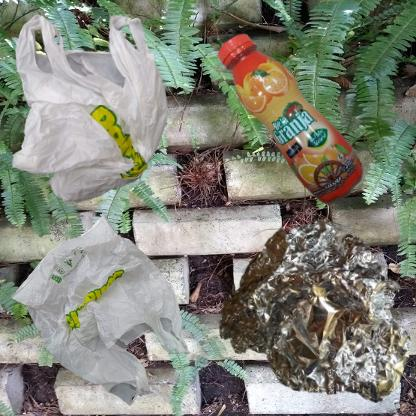aluminio: (213, 213, 416, 412)
bolsa: (10, 213, 191, 406), (10, 10, 172, 209)
botella: (213, 10, 410, 281)
